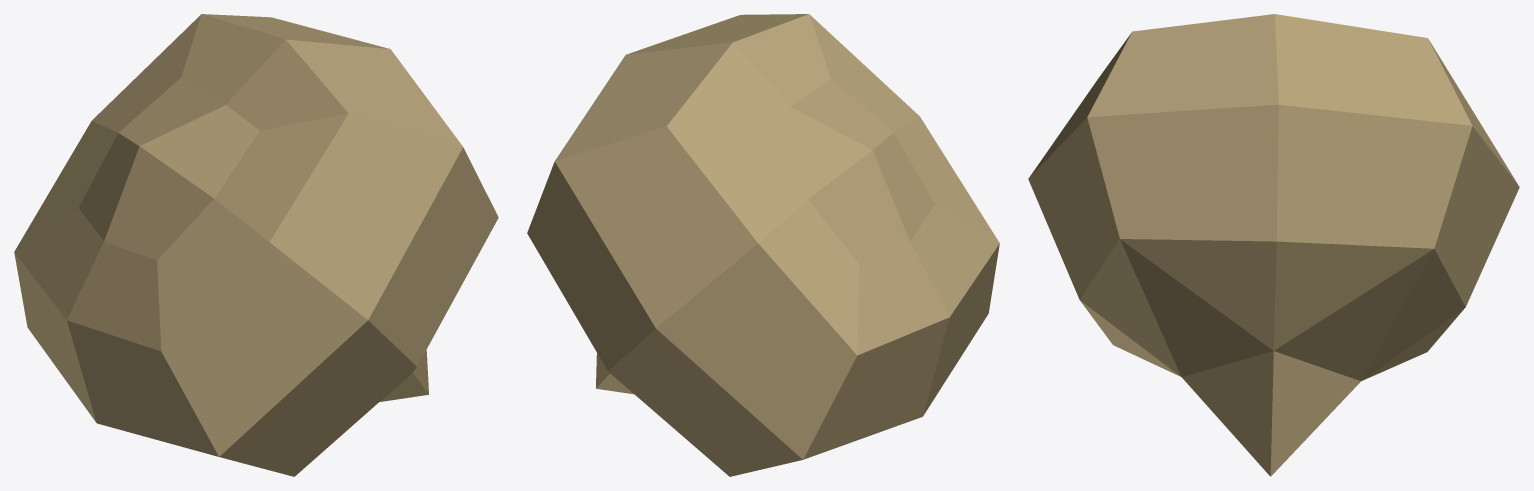
The model's file is onionYellow.fbx.
The picture shows the model from 3 angles, left to right: view 1: azimuth 30°, elevation 25°; view 2: azimuth 150°, elevation 25°; view 3: azimuth 270°, elevation 25°; orthographic projection. The views are drawn at different scales.
Parts seen in each view (by area): view 1: onionYellow; view 2: onionYellow; view 3: onionYellow.
Boxes of the visible parts, <box> form: onionYellow: <box>14,14,498,476</box>; onionYellow: <box>527,14,999,476</box>; onionYellow: <box>1028,14,1519,476</box>.
Size of the model in its own units: 6.35 by 6.33 by 7.17.
Materials: 1 (1 with a texture image).
